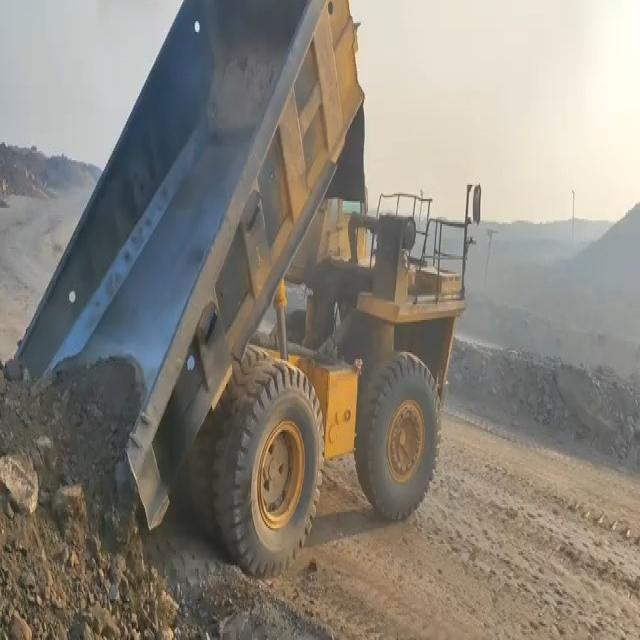dump_truck: (65, 0, 453, 566)
